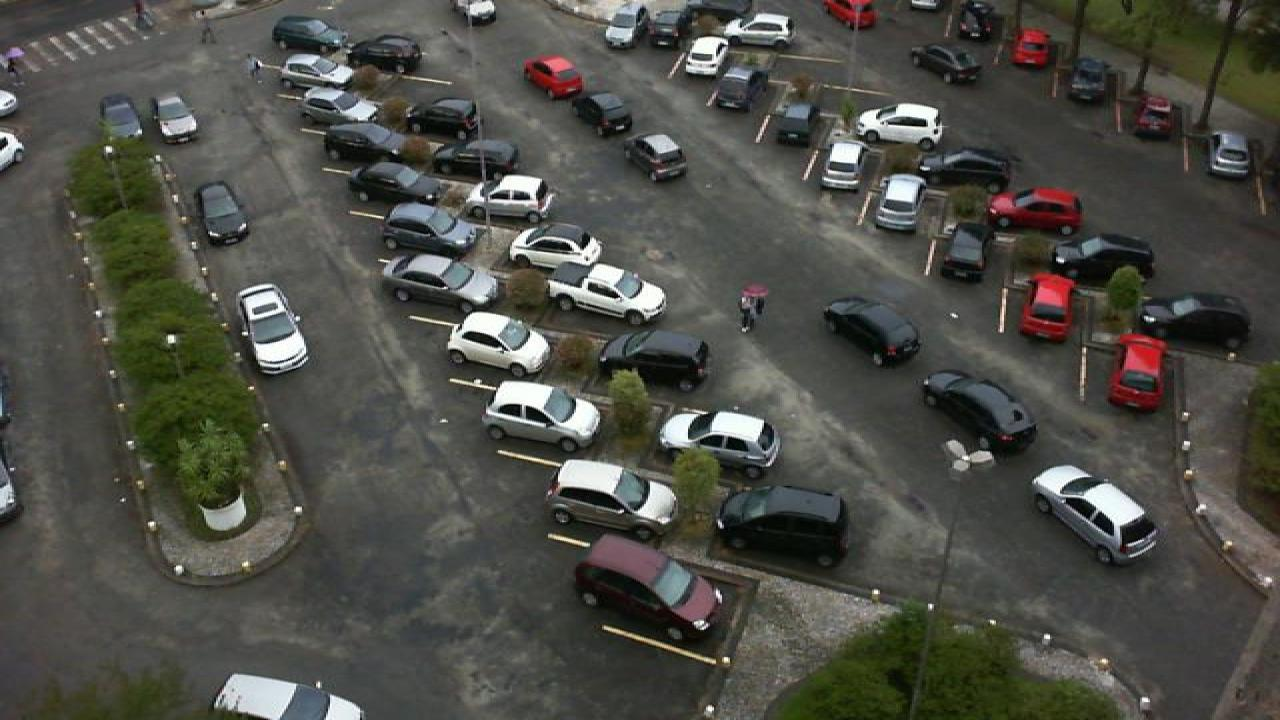Car: (570, 534, 728, 644), (1030, 463, 1162, 567), (714, 484, 852, 568), (544, 459, 678, 545), (918, 368, 1040, 456), (654, 408, 782, 482), (480, 379, 602, 456), (380, 250, 504, 312), (548, 262, 668, 325), (822, 295, 924, 369), (208, 673, 366, 720), (596, 328, 712, 392), (444, 310, 554, 374), (1136, 291, 1250, 349), (1052, 233, 1158, 291), (508, 222, 606, 278), (378, 202, 478, 256), (1104, 331, 1168, 415), (984, 186, 1086, 236), (464, 172, 556, 226), (352, 160, 448, 208), (914, 145, 1014, 191), (854, 102, 944, 148), (1020, 271, 1078, 342), (432, 136, 522, 181), (268, 15, 354, 56), (402, 96, 482, 140), (196, 182, 250, 246), (320, 123, 402, 164), (874, 174, 930, 234), (910, 42, 984, 86), (938, 220, 990, 282), (300, 88, 384, 126), (346, 34, 424, 73), (274, 54, 358, 90), (720, 12, 796, 49), (1206, 130, 1258, 184), (150, 93, 200, 146), (814, 140, 866, 190), (602, 1, 650, 51), (1068, 56, 1116, 106), (718, 66, 770, 112), (98, 93, 146, 142), (770, 102, 820, 146), (1132, 92, 1176, 141), (682, 35, 730, 79), (1010, 26, 1054, 70), (960, 0, 1000, 43), (646, 8, 682, 50)
